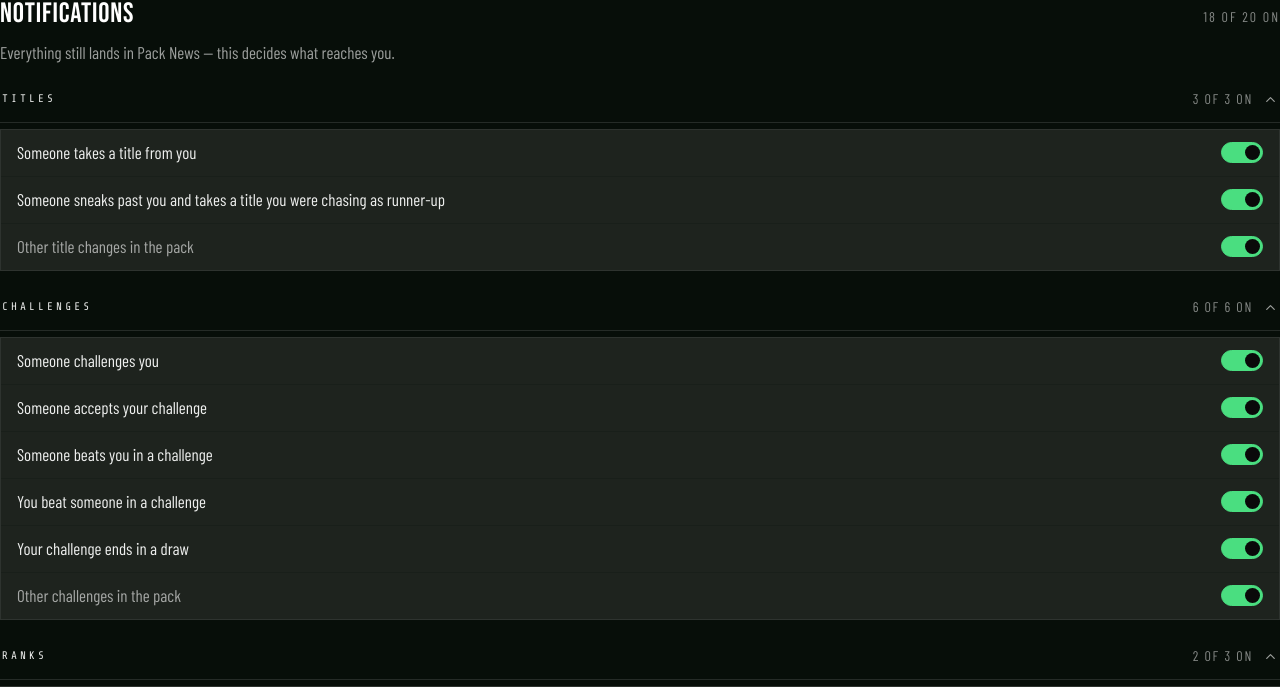
Scenario: NotificationSettingsPanel › ett bakgrundsfel med cachade värden låser inte reglagen och säger inte Defaults shown
Expected: the element "Titles" is shown, [0, 77, 1279, 271]
Click the switch labelled "Other title changes in the pack" at (105, 246), box [1, 224, 1279, 270]
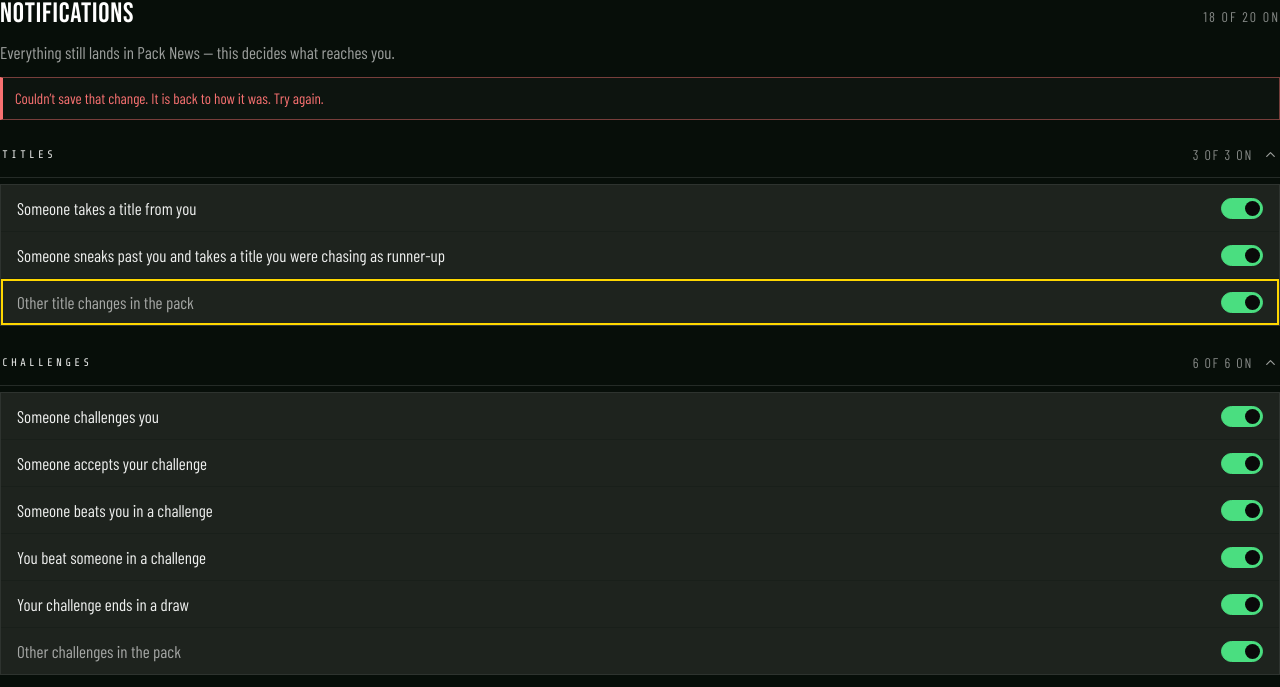
Expected: the switch labelled "Other title changes in the pack" is checked, [1, 279, 1279, 325]
Result: the text "Couldn.t save that change" is shown at [15, 89, 324, 107]
Result: the number of messages is 1 at [0, 77, 1279, 120]
